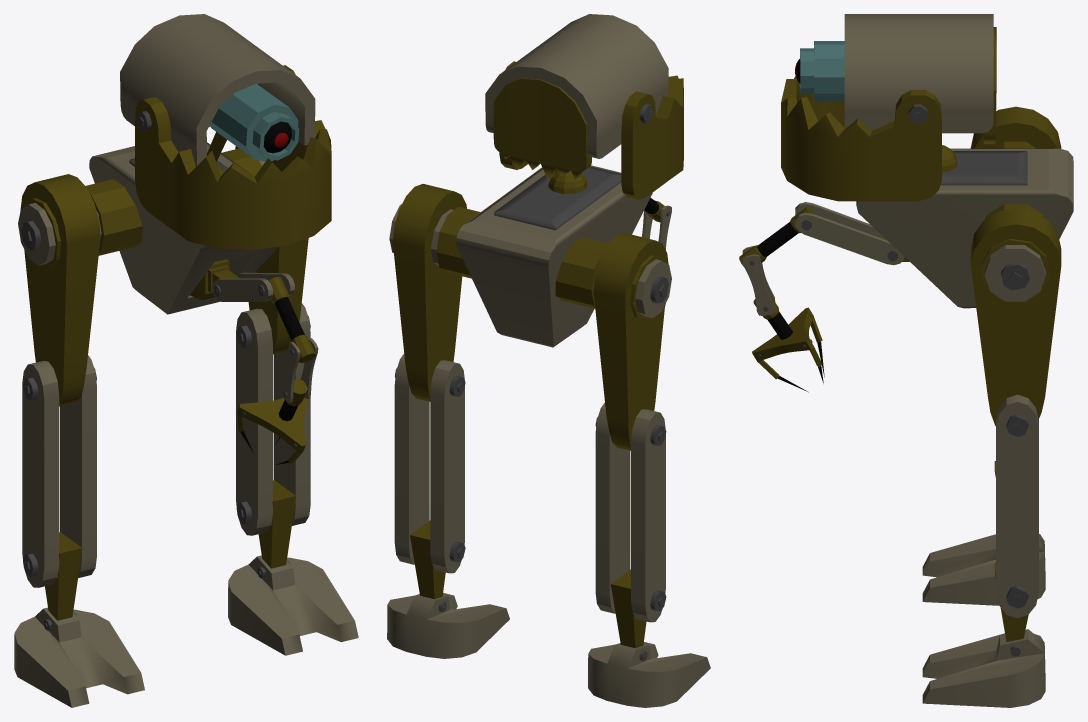
File: ROBOTMESH.fbx
3 views of the same model, side by side, from view 1: azimuth 30°, elevation 25°; view 2: azimuth 150°, elevation 25°; view 3: azimuth 270°, elevation 25° (orthographic). The views are drawn at different scales.
Parts seen in each view (by area): view 1: mouth, body, polySurface2, lower_leg_R, upper_leg_R, lower_leg_L, foot_R, foot_L, eye, palm, upper_leg_L, ankle_R (+4 smaller); view 2: body, polySurface2, lower_leg_L, lower_leg_R, upper_leg_R, upper_leg_L, mouth, foot_L, foot_R, ankle_L, ankle_R, eye (+1 smaller); view 3: body, polySurface2, mouth, upper_leg_L, lower_leg_L, foot_L, foot_R, upper_hand, eye, upper_leg_R, palm, lower_hand (+2 smaller).
Part boxes in pixels (bbox=[...]): mouth: bbox=[135, 65, 331, 249]; body: bbox=[18, 142, 278, 314]; polySurface2: bbox=[120, 14, 315, 166]; lower_leg_R: bbox=[22, 355, 96, 587]; upper_leg_R: bbox=[20, 174, 100, 406]; lower_leg_L: bbox=[236, 303, 310, 535]; foot_R: bbox=[14, 607, 144, 707]; foot_L: bbox=[228, 555, 358, 655]; eye: bbox=[207, 83, 299, 175]; palm: bbox=[237, 379, 308, 463]; upper_leg_L: bbox=[235, 146, 308, 354]; ankle_R: bbox=[45, 532, 82, 620]; body: bbox=[389, 165, 671, 347]; polySurface2: bbox=[485, 14, 668, 179]; lower_leg_L: bbox=[394, 353, 465, 573]; lower_leg_R: bbox=[595, 402, 666, 622]; upper_leg_R: bbox=[593, 232, 668, 450]; upper_leg_L: bbox=[392, 184, 466, 401]; mouth: bbox=[499, 61, 683, 199]; foot_L: bbox=[387, 593, 509, 658]; foot_R: bbox=[588, 642, 710, 707]; ankle_L: bbox=[410, 520, 445, 599]; ankle_R: bbox=[610, 569, 646, 648]; eye: bbox=[548, 169, 587, 194]; body: bbox=[856, 141, 1073, 308]; polySurface2: bbox=[844, 14, 996, 144]; mouth: bbox=[781, 76, 941, 201]; upper_leg_L: bbox=[970, 208, 1061, 425]; lower_leg_L: bbox=[996, 394, 1038, 618]; foot_L: bbox=[922, 629, 1045, 707]; foot_R: bbox=[922, 534, 1045, 605]; upper_hand: bbox=[795, 202, 904, 265]; eye: bbox=[795, 41, 957, 172]; upper_leg_R: bbox=[970, 106, 1061, 148]; palm: bbox=[752, 294, 822, 379]; lower_hand: bbox=[742, 246, 775, 316].
Size of the model in its own units: 46.11 by 91.01 by 44.92.
